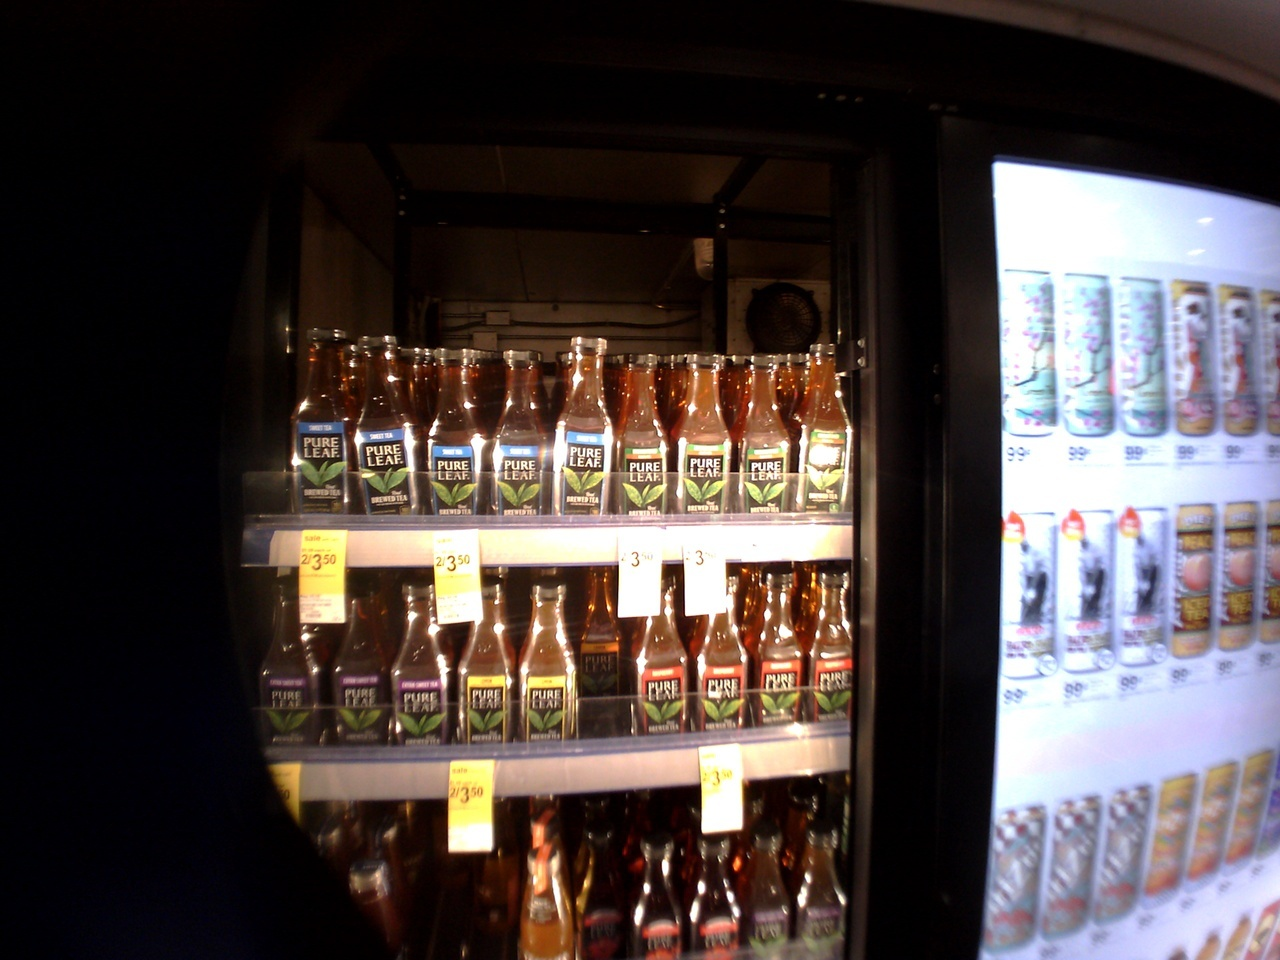shelf: (268, 315, 855, 565), (243, 557, 868, 784), (255, 772, 860, 960)
